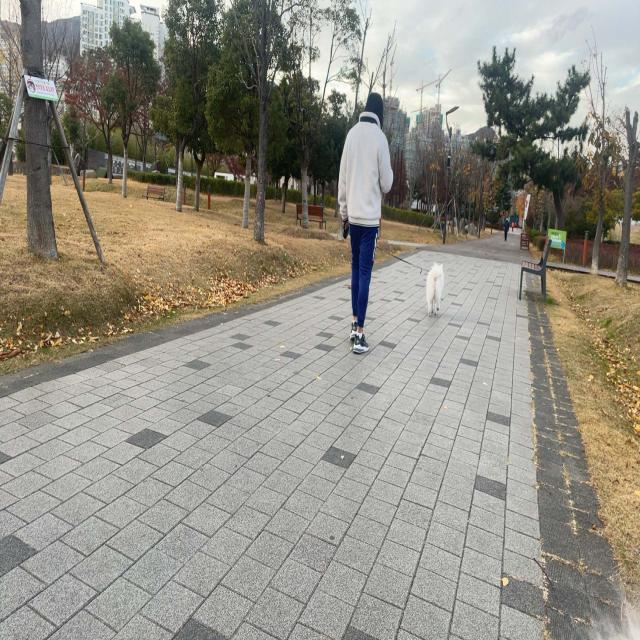Leashed_Dog: (356, 214, 444, 317)
